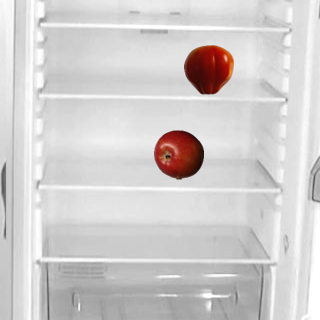Apple Braeburn: (153, 129, 203, 179)
Tomato 1: (183, 44, 233, 94)
